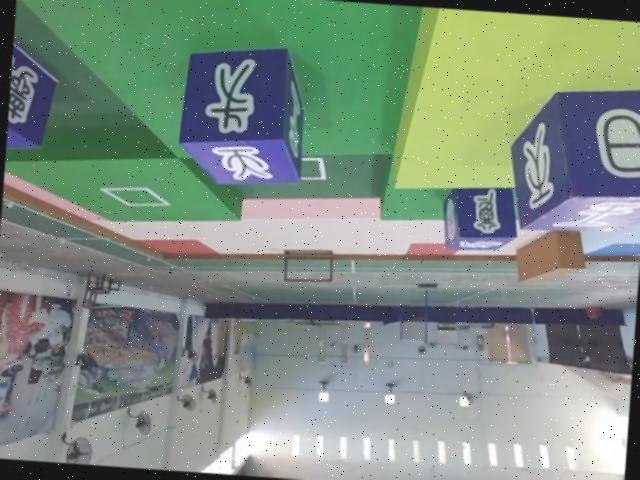R2 Fake Blue: (504, 77, 640, 239), (176, 36, 310, 188), (6, 26, 61, 150), (441, 182, 524, 255)
